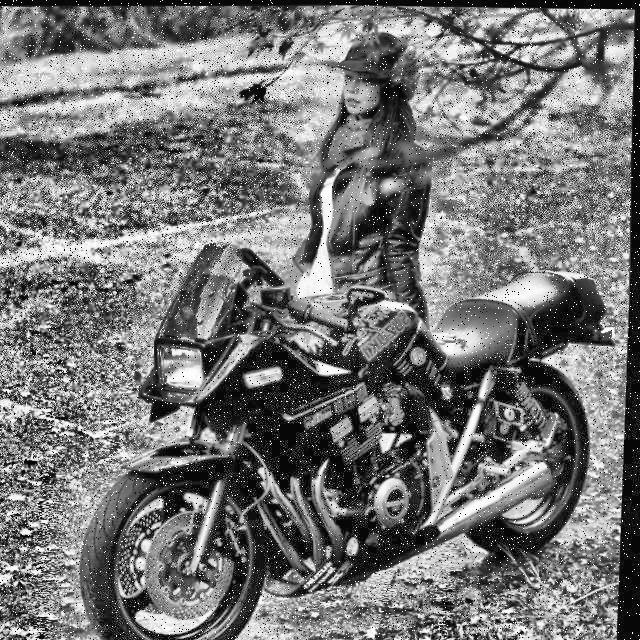Helmet: (326, 27, 424, 122)
